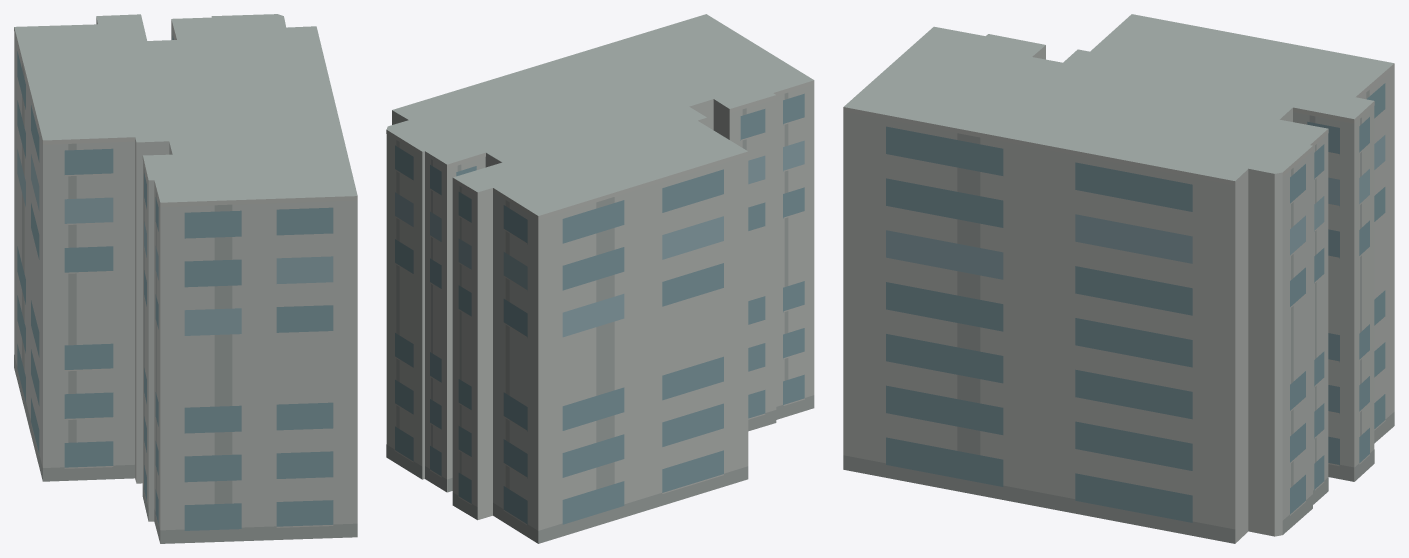
The model's file is survey-upis-32669257.glb.
The picture shows the model from 3 angles, left to right: view 1: azimuth 30°, elevation 25°; view 2: azimuth 150°, elevation 25°; view 3: azimuth 270°, elevation 25°; orthographic projection. The views are drawn at different scales.
Visible parts, largest first — view 1: survey-upis-32669257.tmp; view 2: survey-upis-32669257.tmp; view 3: survey-upis-32669257.tmp.
Part boxes in pixels (box(x1,y1,x2,y2)): survey-upis-32669257.tmp: box(14, 14, 357, 543); survey-upis-32669257.tmp: box(386, 14, 814, 543); survey-upis-32669257.tmp: box(843, 14, 1394, 543).
Bounding box in the file's own units: 18.79 × 19 × 26.17.
